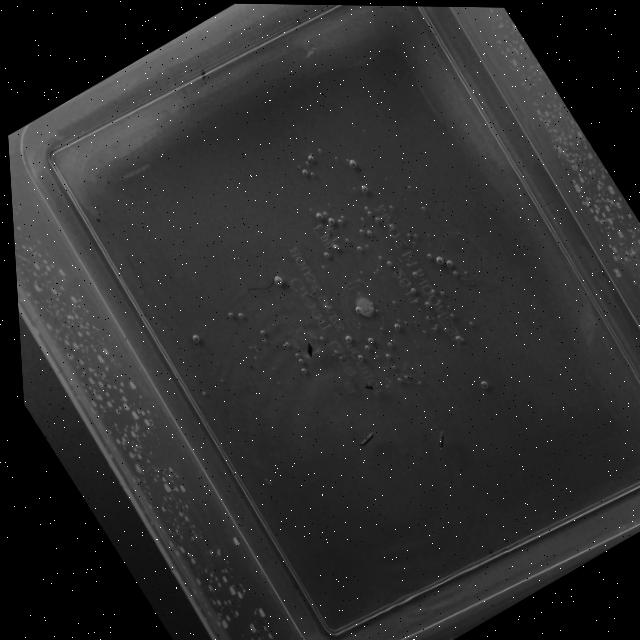Wereng: (351, 424, 388, 458), (422, 429, 457, 460), (294, 332, 326, 365), (360, 382, 378, 400)
